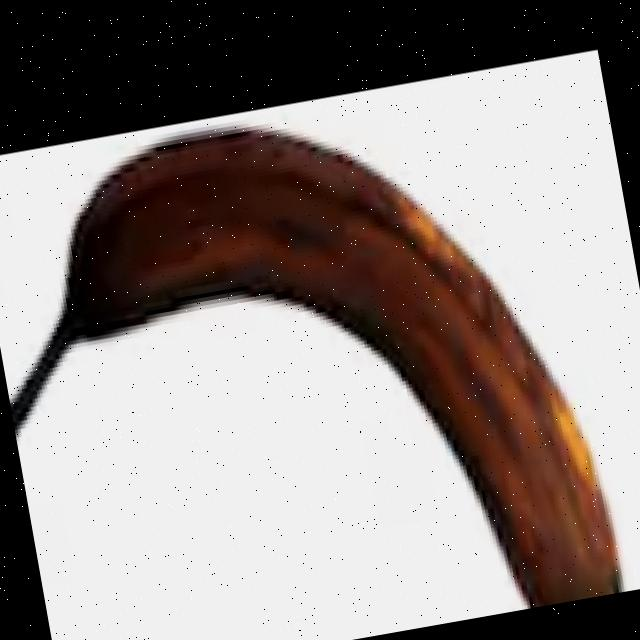Rotten: (0, 50, 634, 640)
